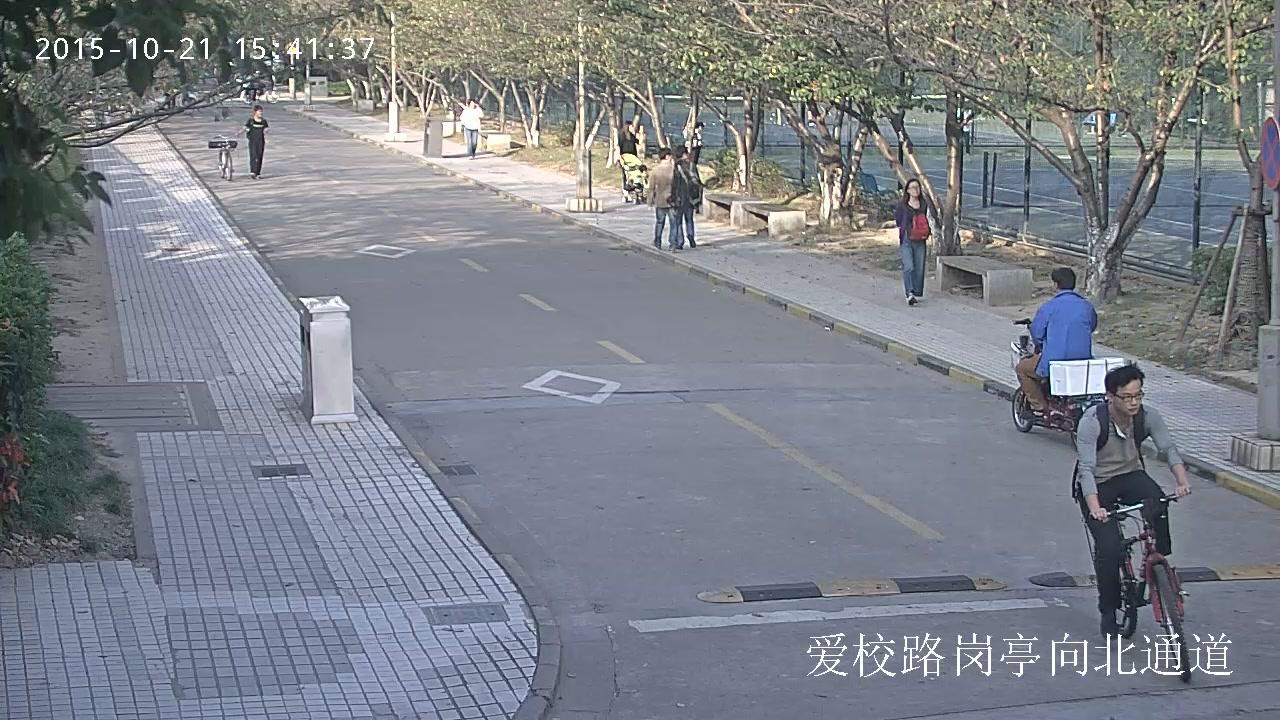face: (1115, 376, 1141, 415), (909, 181, 920, 195), (255, 109, 262, 117), (469, 100, 475, 108), (1051, 280, 1055, 291), (628, 123, 633, 131), (669, 153, 673, 159), (698, 124, 702, 130)
